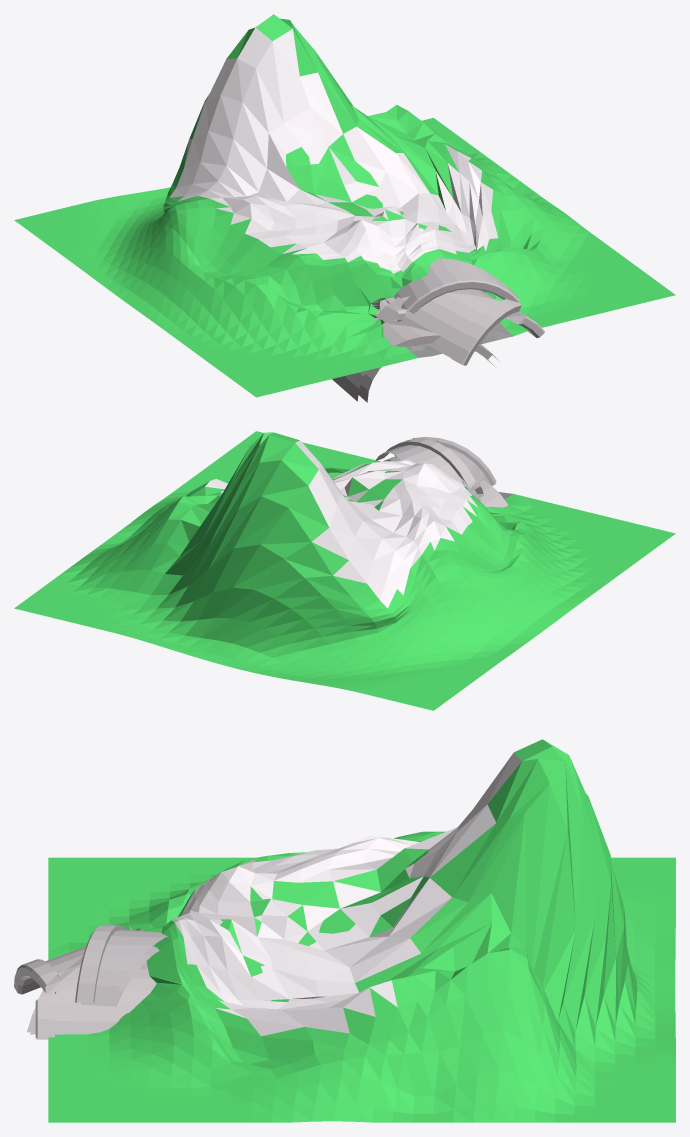
Rendered from tunnel2.fbx.
The picture shows the model from 3 angles, top to bottom: view 1: azimuth 30°, elevation 25°; view 2: azimuth 150°, elevation 25°; view 3: azimuth 270°, elevation 25°; orthographic projection. The views are drawn at different scales.
Visible parts, largest first — view 1: Plane, Cylinder, Cylinder.001, Cylinder.003, Cylinder.002; view 2: Plane, Cylinder.001, Cylinder, Cylinder.003; view 3: Plane, Cylinder.001, Cylinder.002, Cylinder.
Part boxes in pixels (x1,y1,x2,y2): Plane: (14,14,675,397); Cylinder: (376,293,521,365); Cylinder.001: (385,258,519,313); Cylinder.003: (332,299,500,402); Cylinder.002: (448,289,544,337); Plane: (14,431,675,710); Cylinder.001: (375,438,475,489); Cylinder: (412,437,496,501); Cylinder.003: (480,479,507,507); Plane: (48,739,675,1122); Cylinder.001: (75,924,167,1006); Cylinder.002: (35,963,156,1039); Cylinder: (14,928,139,994).
Size of the model in its own units: 2236 by 1230 by 2358.
